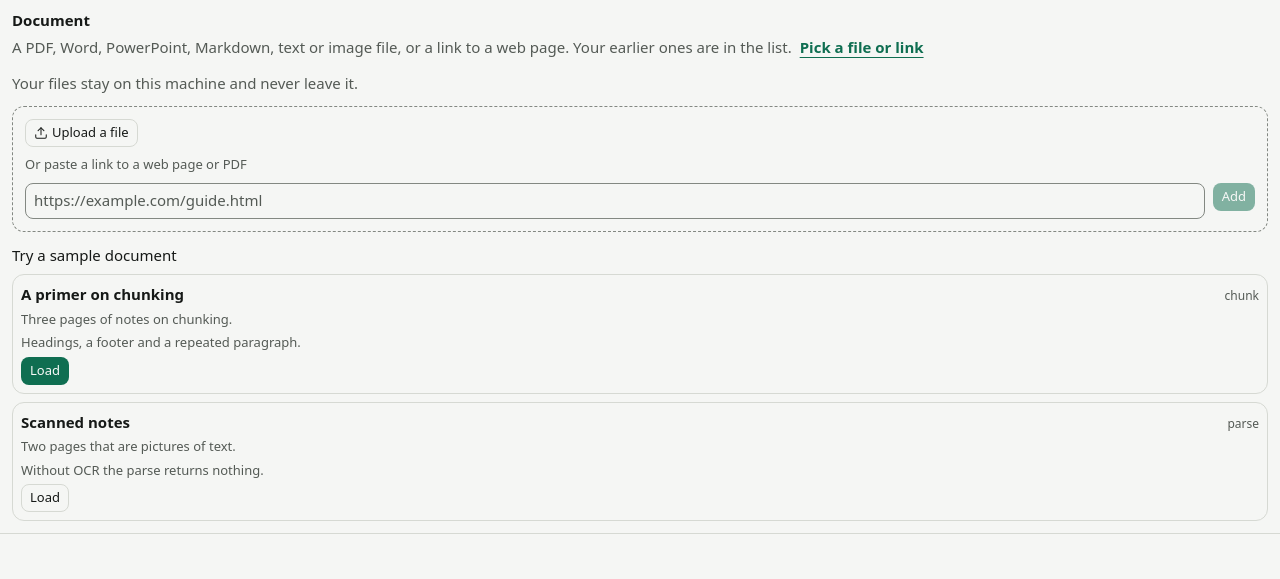
Test case: FirstRun › shows a refusal under the link box when the text is not a link
Type "not a link" into the field labelled "Or paste a link to a web page or PDF" at (615, 200), box [25,182,1205,218]
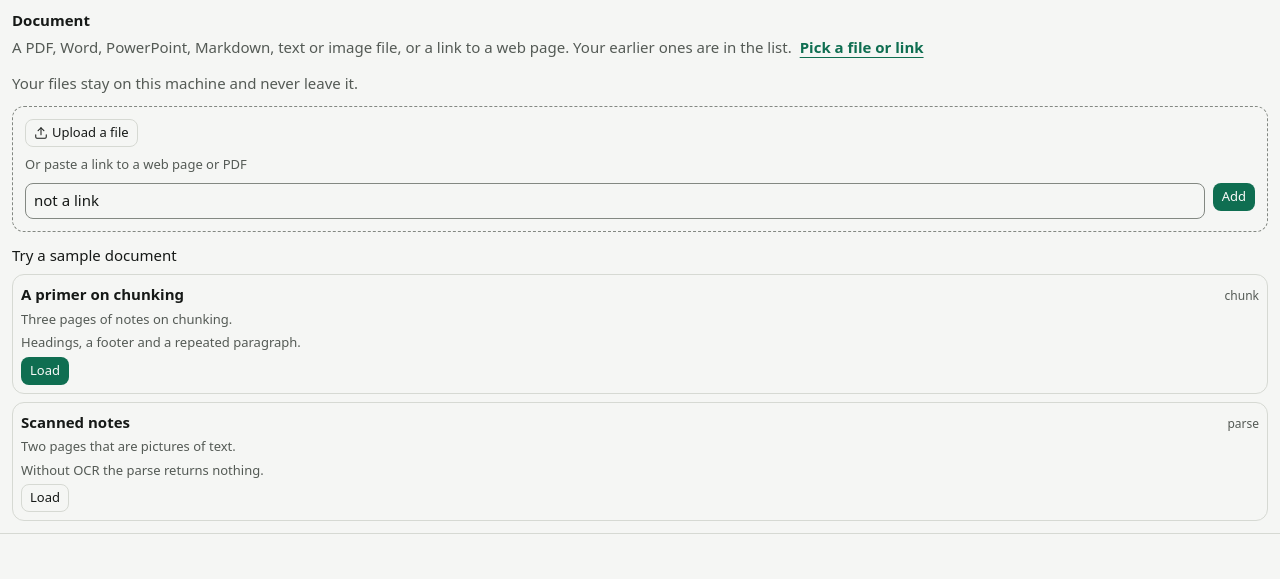
Click the button with aria-label "Add link" at (1234, 196), box [1213,182,1255,210]
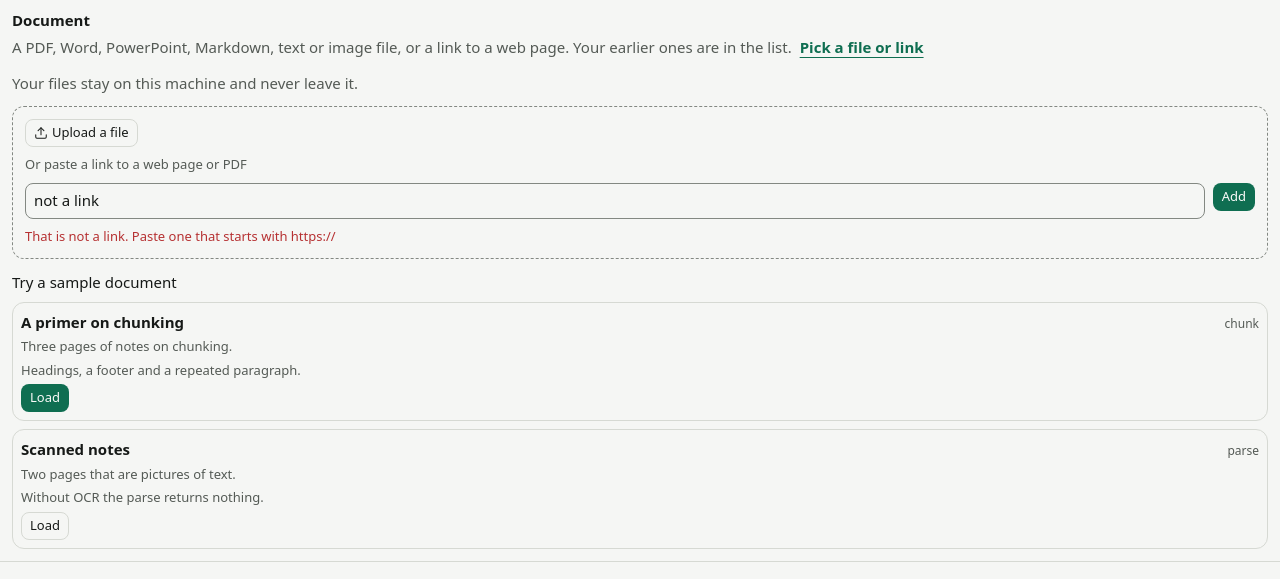
Check: the message reads "That is not a link. Paste one that starts with https://", box [25,226,336,244]
